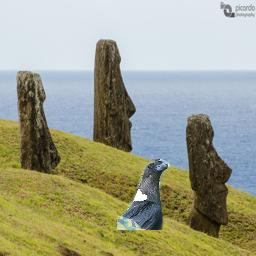Crow: (117, 159, 170, 230)
